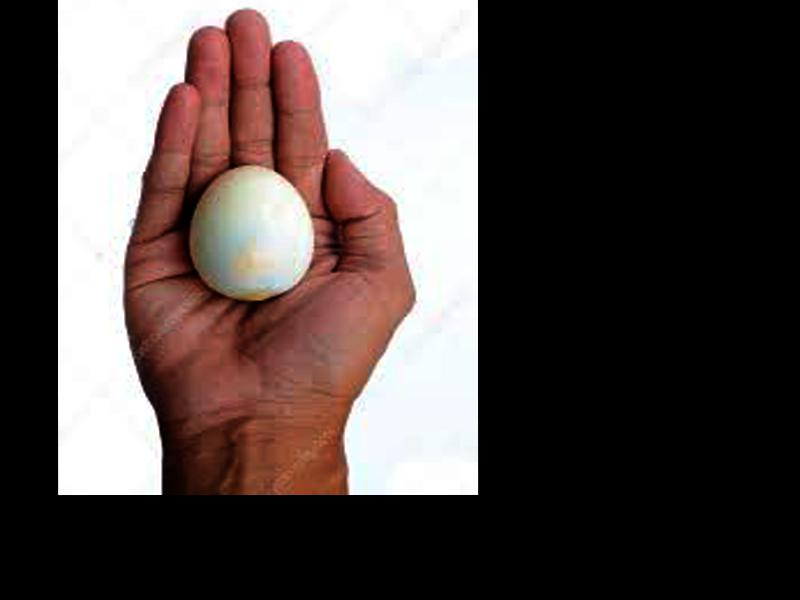Eggs: (191, 163, 311, 300)
